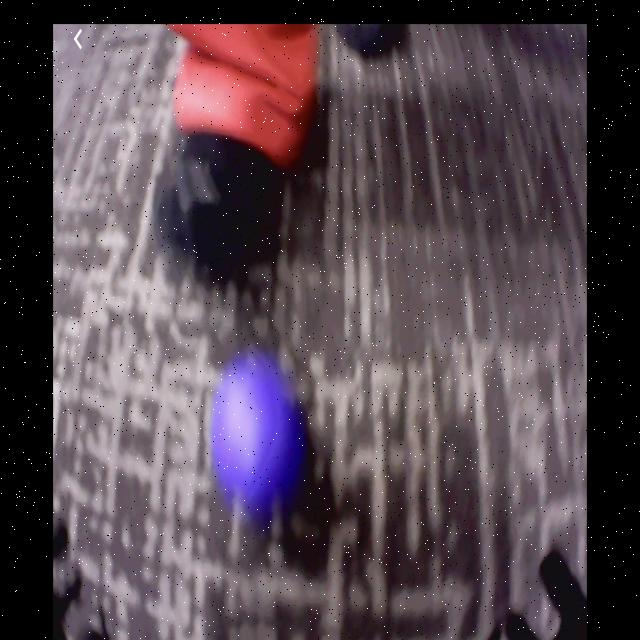ball: (211, 365, 304, 506)
